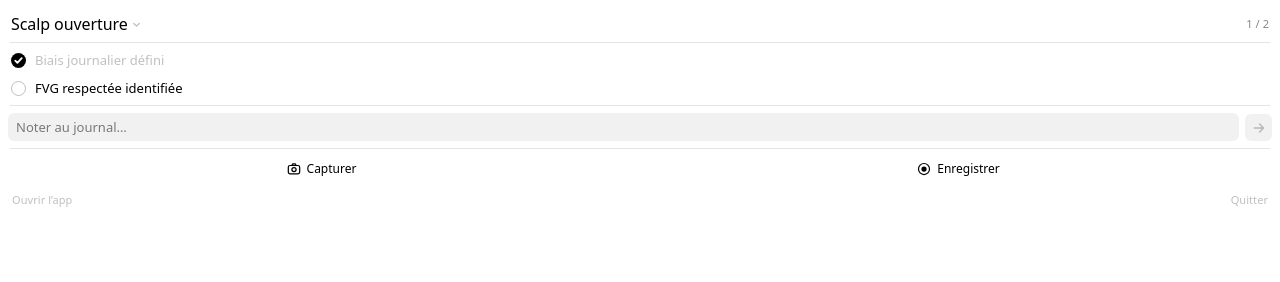
popover de la barre d'état › ne déroule les stratégies que si on le demande
Expected: the text "Swing" is not shown
Click the button "Scalp ouverture" at x=76, y=24, box x1=11 y1=14 x2=141 y2=34
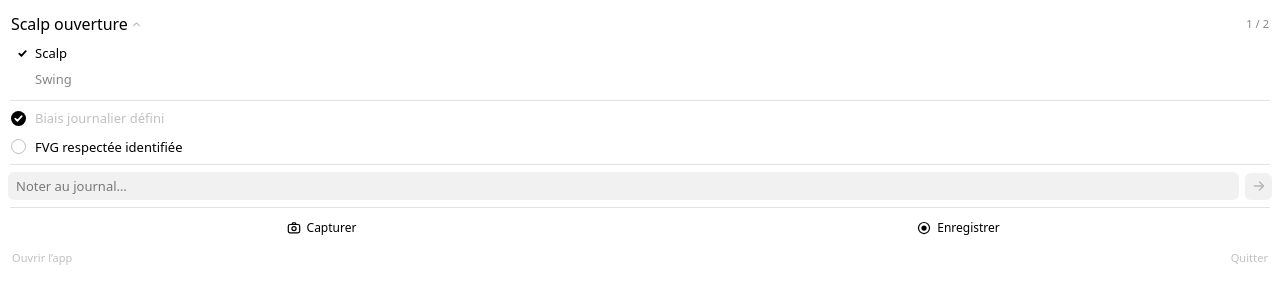
Now the text "Swing" is shown, box x1=35 y1=70 x2=72 y2=88
